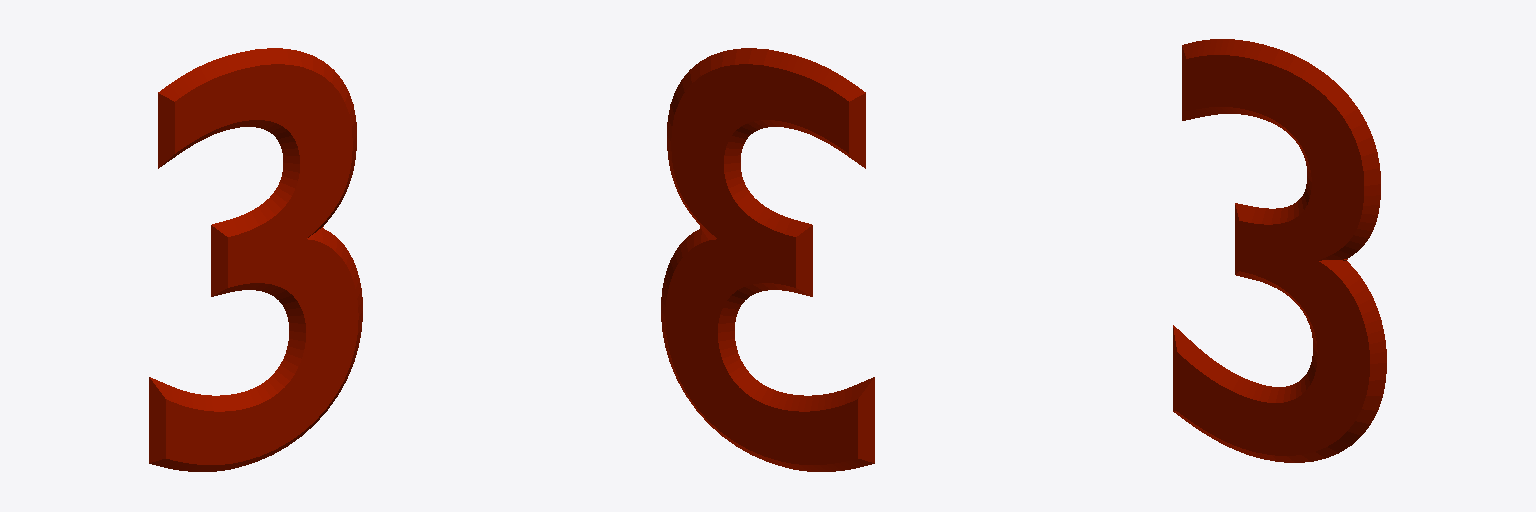
The model's file is three.obj.
The picture shows the model from 3 angles: view 1: azimuth 30°, elevation 25°; view 2: azimuth 150°, elevation 25°; view 3: azimuth 330°, elevation 25°; orthographic projection.
Parts seen in each view (by area): view 1: Text.003; view 2: Text.003; view 3: Text.003.
Part boxes in pixels (left/top/right/bottom): Text.003: left=149, top=48, right=362, bottom=471; Text.003: left=661, top=48, right=874, bottom=471; Text.003: left=1173, top=39, right=1386, bottom=462.
Size of the model in its own units: 0.04 by 0.074 by 0.004.